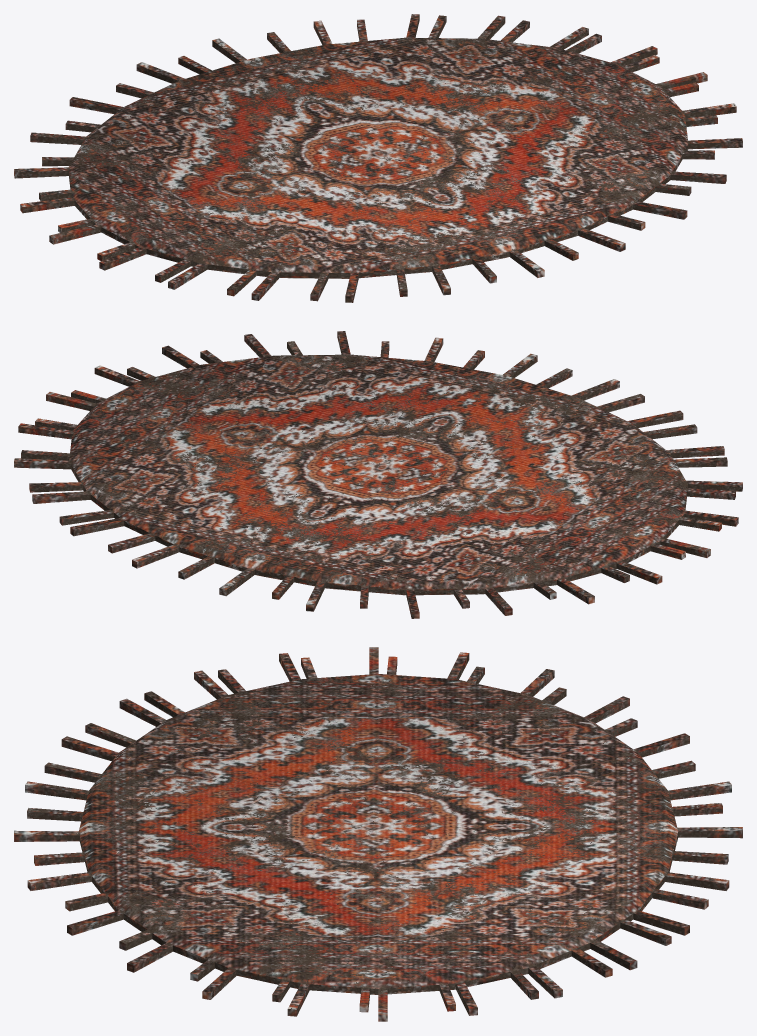
Rendered from Round Carpet.fbx.
3 views of the same model, one above another, from view 1: azimuth 30°, elevation 25°; view 2: azimuth 150°, elevation 25°; view 3: azimuth 270°, elevation 25° (orthographic). The views are drawn at different scales.
Visible parts, largest first — view 1: Round Carpet; view 2: Round Carpet; view 3: Round Carpet.
Boxes of the visible parts, left/top/right/bottom form: Round Carpet: left=14, top=14, right=742, bottom=302; Round Carpet: left=14, top=331, right=742, bottom=618; Round Carpet: left=14, top=647, right=742, bottom=1021.
Bounding box in the file's own units: 86.81 × 1.62 × 72.77.
